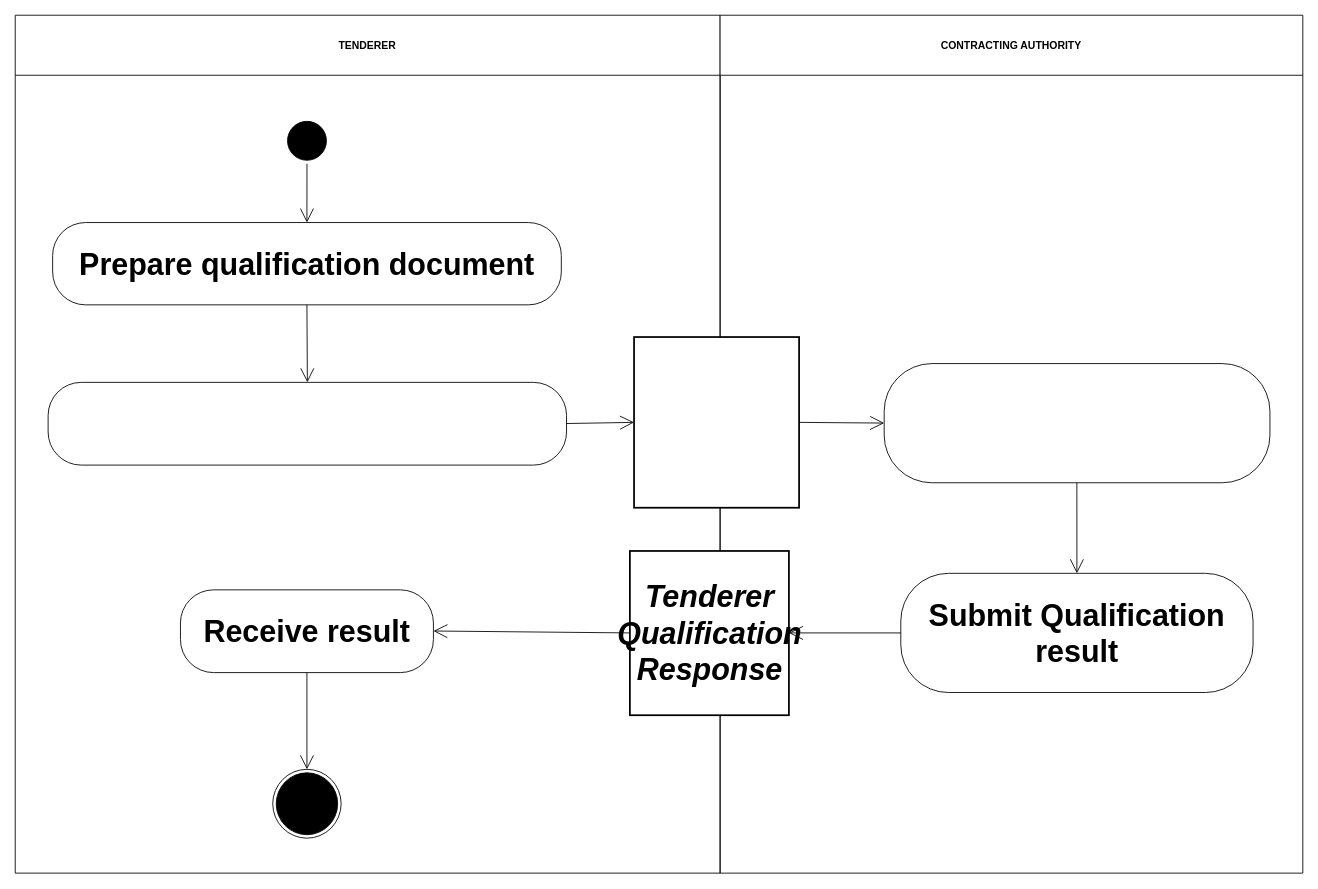
This 1318x889 diagram has some shape labels left out. The shapes that lost their labels are listed below. From the top down, each one's centre as x and y in pixels, then its label:
At point 307,423: "Submit Qualification document".
At point 716,422: "Tenderer Qualification".
At point 1076,423: "Evaluate Qualification document".
